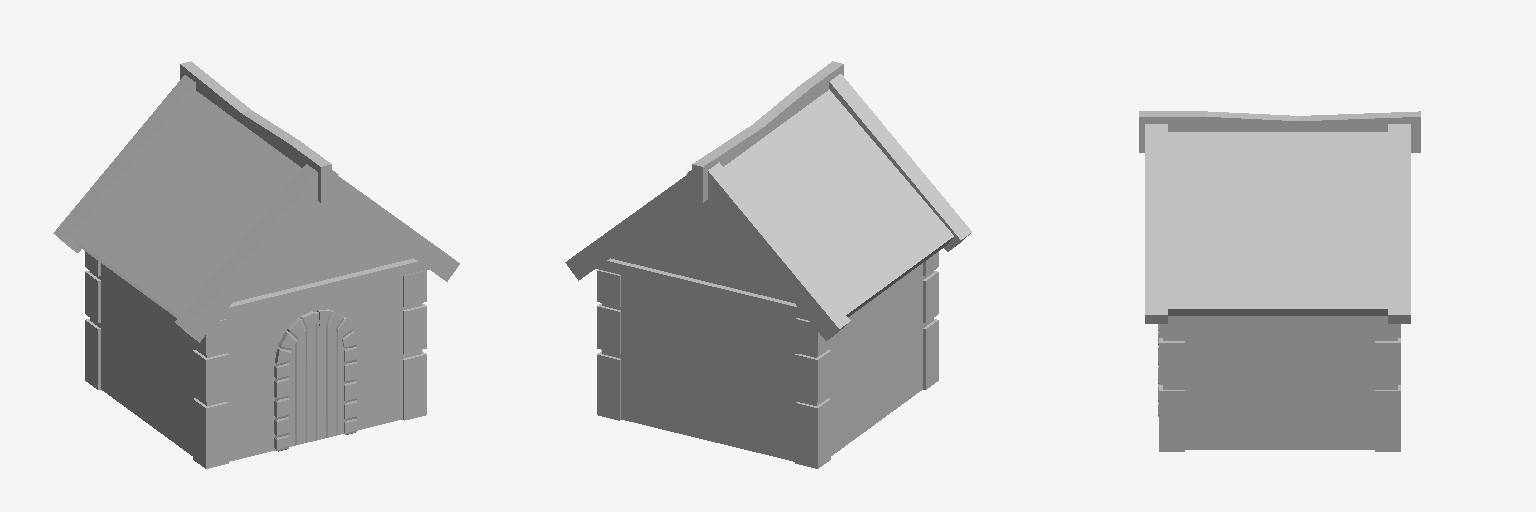
File: house 2.obj
3 renders of one model, left to right at view 1: azimuth 30°, elevation 25°; view 2: azimuth 150°, elevation 25°; view 3: azimuth 270°, elevation 25°, orthographic.
Visible parts, largest first — view 1: group1 pCube5, group1 building4, group1 building5, pCube3 group1, group1 roof_base, group1 pCube42, group1 pCube41, group1 pCube4, group1 pCube17, group1 building, group1 pCube46, group1 pCube49 (+6 smaller); view 2: group1 pCube5, group1 building1, group1 building5, group1 pCube4, group1 roof_base, pCube3 group1, group1 pCube17, group1 building, group1 pCube45, group1 pCube50, group1 pCube44, group1 pCube48 (+4 smaller); view 3: group1 pCube34, group1 building6, group1 pCube17, pCube3 group1, group1 pCube4, group1 pCube43, group1 pCube44, group1 pCube47, group1 pCube48.
Boxes of the visible parts, x1,y1,x2,y2 form: group1 pCube5: [71, 91, 301, 318]; group1 building4: [207, 276, 421, 461]; group1 building5: [90, 263, 206, 455]; pCube3 group1: [175, 164, 459, 342]; group1 roof_base: [234, 200, 412, 301]; group1 pCube42: [288, 323, 344, 446]; group1 pCube41: [274, 309, 357, 451]; group1 pCube4: [53, 75, 338, 252]; group1 pCube17: [180, 61, 331, 202]; group1 building: [218, 258, 428, 320]; group1 pCube46: [193, 398, 228, 468]; group1 pCube49: [193, 350, 228, 401]; group1 pCube5: [724, 89, 953, 316]; group1 building1: [602, 275, 816, 461]; group1 building5: [817, 263, 933, 455]; group1 pCube4: [565, 162, 850, 340]; group1 roof_base: [611, 200, 793, 302]; pCube3 group1: [687, 74, 971, 251]; group1 pCube17: [692, 61, 843, 202]; group1 building: [596, 258, 808, 320]; group1 pCube45: [795, 398, 830, 468]; group1 pCube50: [795, 350, 830, 401]; group1 pCube44: [597, 351, 620, 420]; group1 pCube48: [597, 303, 620, 353]; group1 pCube34: [1168, 132, 1387, 315]; group1 building6: [1163, 316, 1397, 449]; group1 pCube17: [1139, 111, 1420, 152]; pCube3 group1: [1145, 124, 1167, 323]; group1 pCube4: [1388, 124, 1410, 323]; group1 pCube43: [1159, 385, 1184, 451]; group1 pCube44: [1375, 385, 1400, 451]; group1 pCube47: [1159, 338, 1184, 384]; group1 pCube48: [1375, 338, 1400, 384].
Bounding box in the file's own units: 3.33 × 3.29 × 2.96.